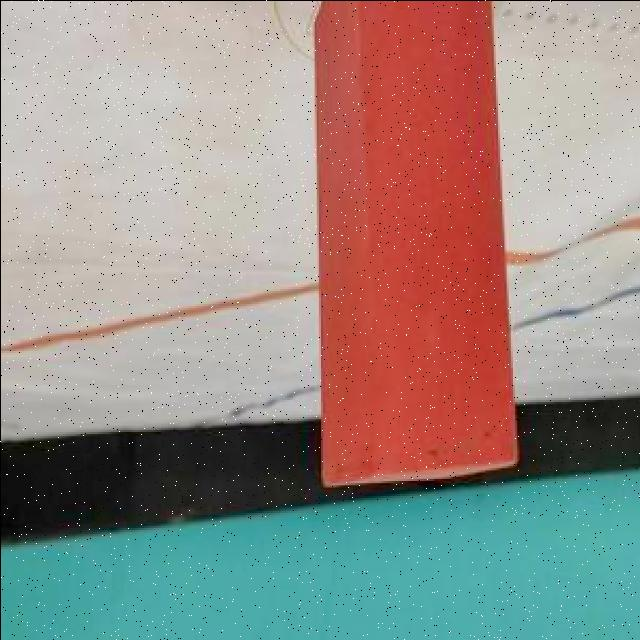redbox: (317, 0, 516, 487)
